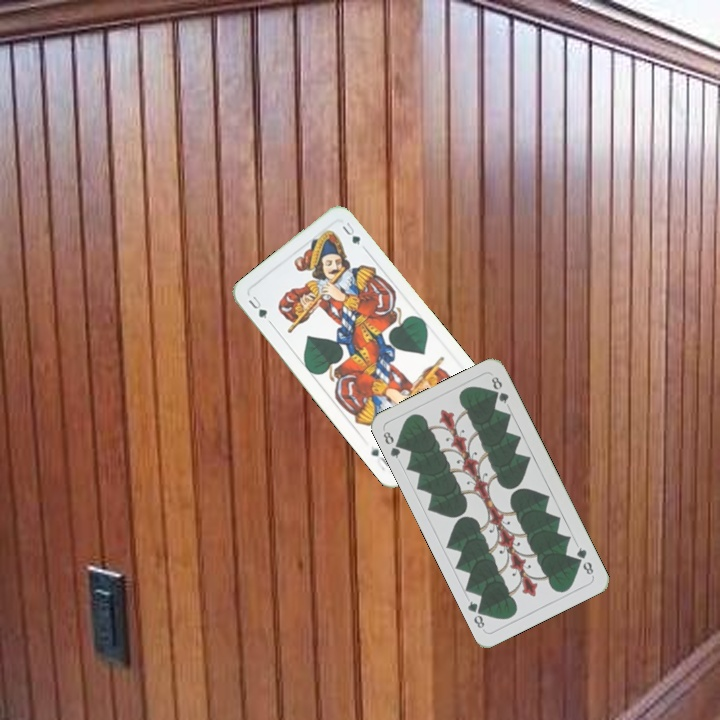G8: (379, 427, 406, 461), (572, 543, 596, 577)
GU: (244, 292, 270, 322)
